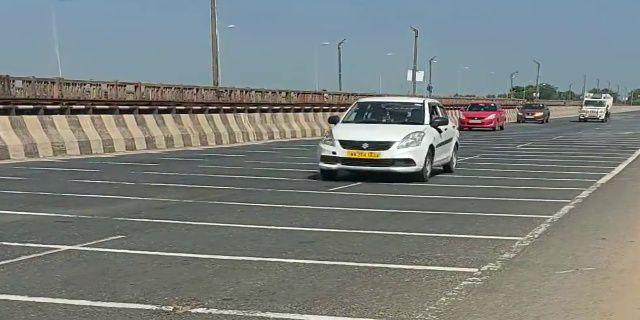Car: (316, 94, 460, 183), (457, 97, 510, 133), (516, 98, 553, 128)
Minitruck: (576, 89, 615, 127)
